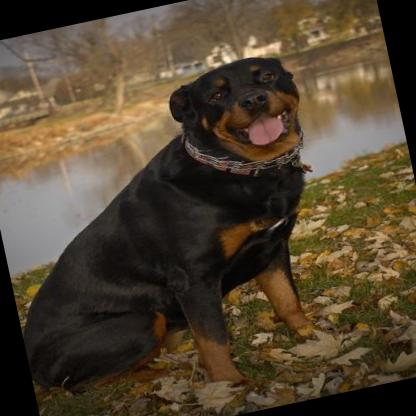Rottweiler: (0, 47, 354, 416)
